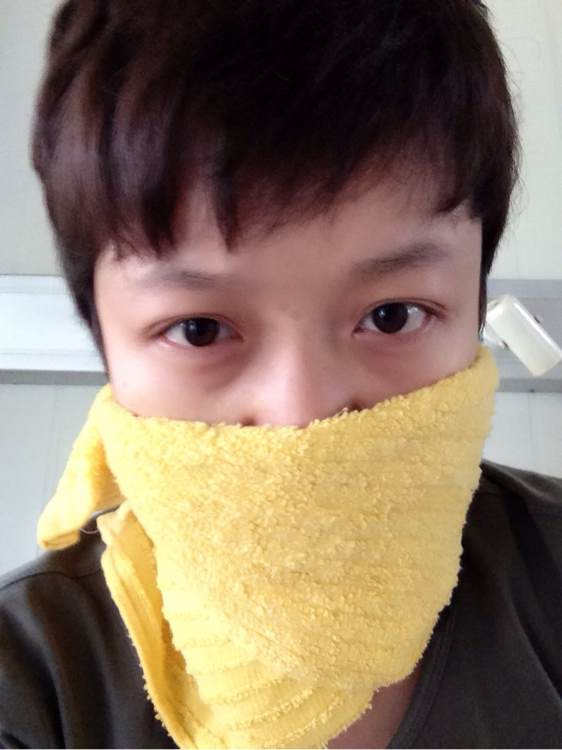face_mask: (98, 67, 509, 704)
